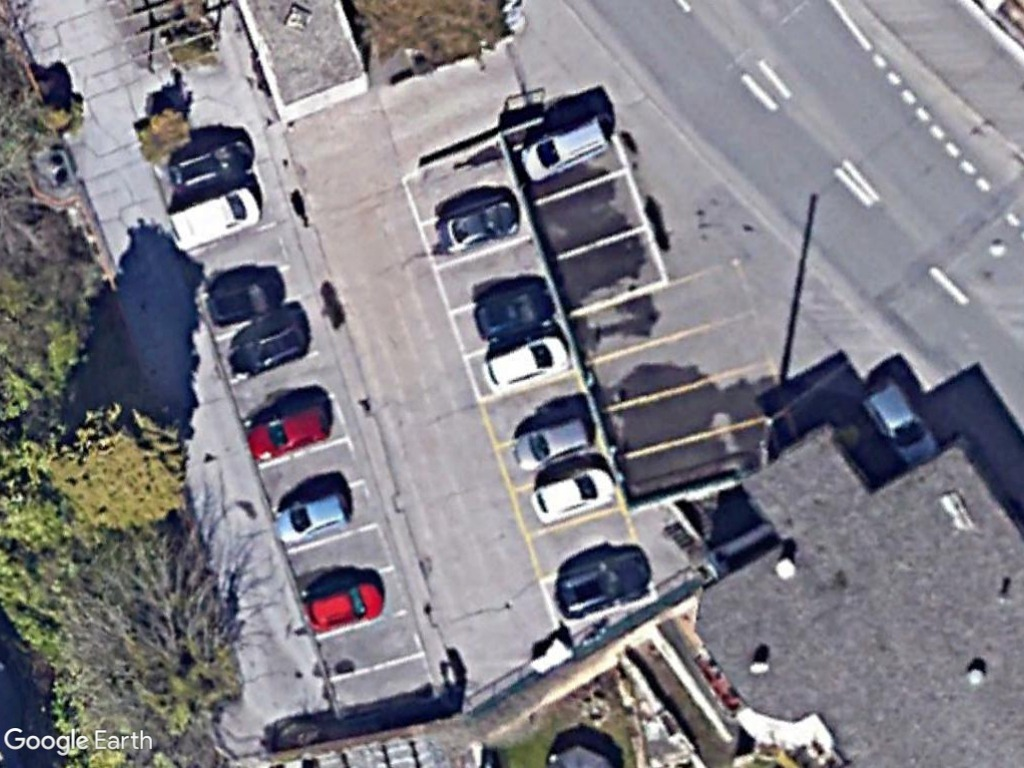car: (863, 377, 944, 471), (517, 112, 615, 185), (555, 550, 652, 616), (476, 329, 574, 394), (242, 399, 333, 466), (525, 463, 621, 525), (300, 573, 389, 636), (433, 194, 526, 252), (269, 485, 354, 548), (508, 414, 595, 474)
van: (165, 186, 266, 254)
